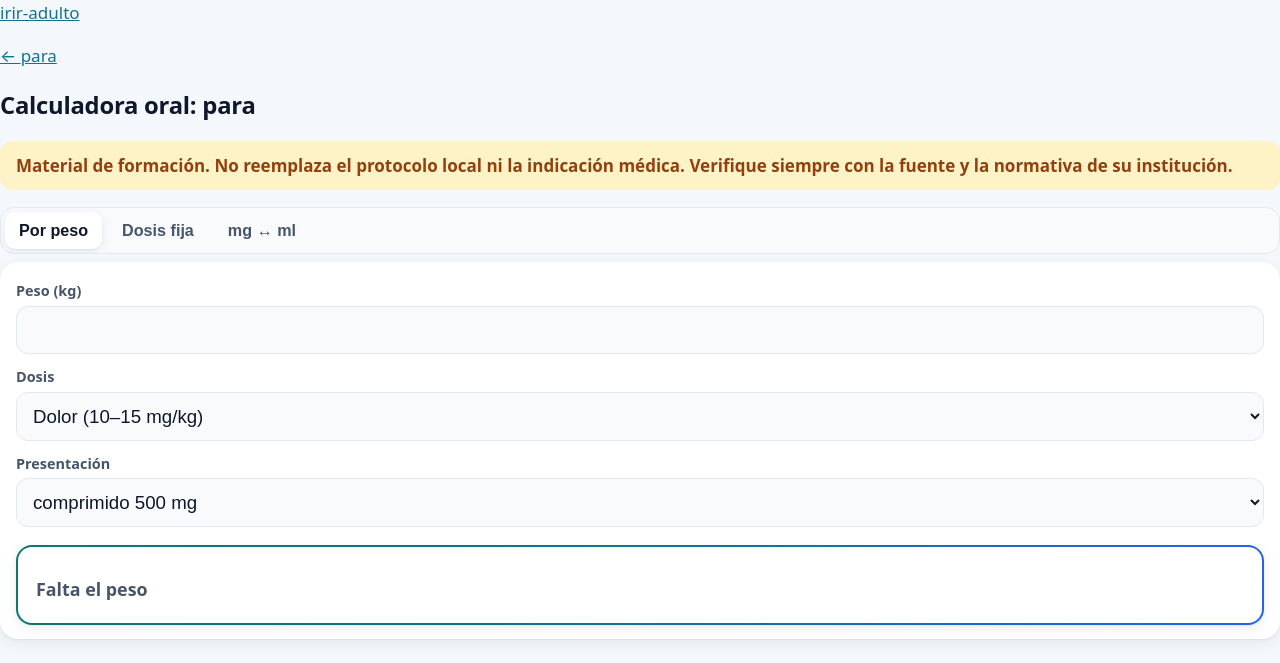
Test: CalculadoraOral › cambiar de medicamento en la misma ruta reinicia el estado (sin caerse)
The width and height of the screenshot is (1280, 663).
Select "jarabe 100 mg/ml" in the dropdown labelled "Presentación" at (640, 503), box x1=16 y1=478 x2=1264 y2=527
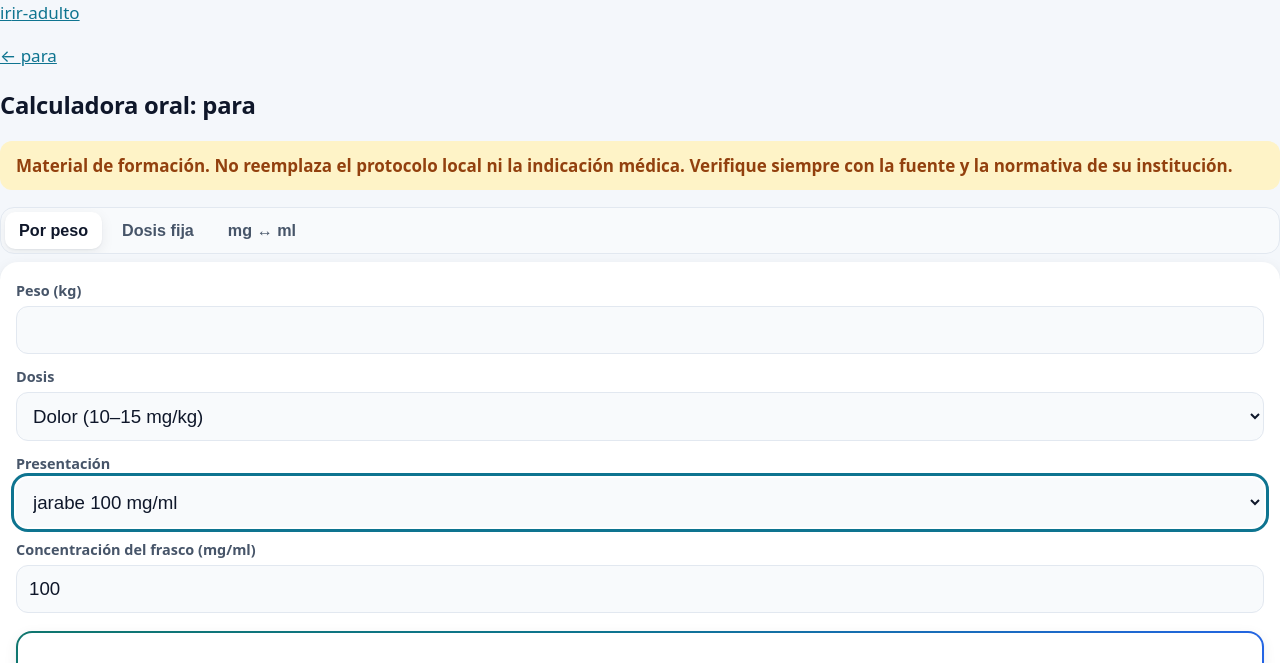
Type "10" into the field labelled "Peso (kg)" at (640, 330), box x1=16 y1=306 x2=1264 y2=354
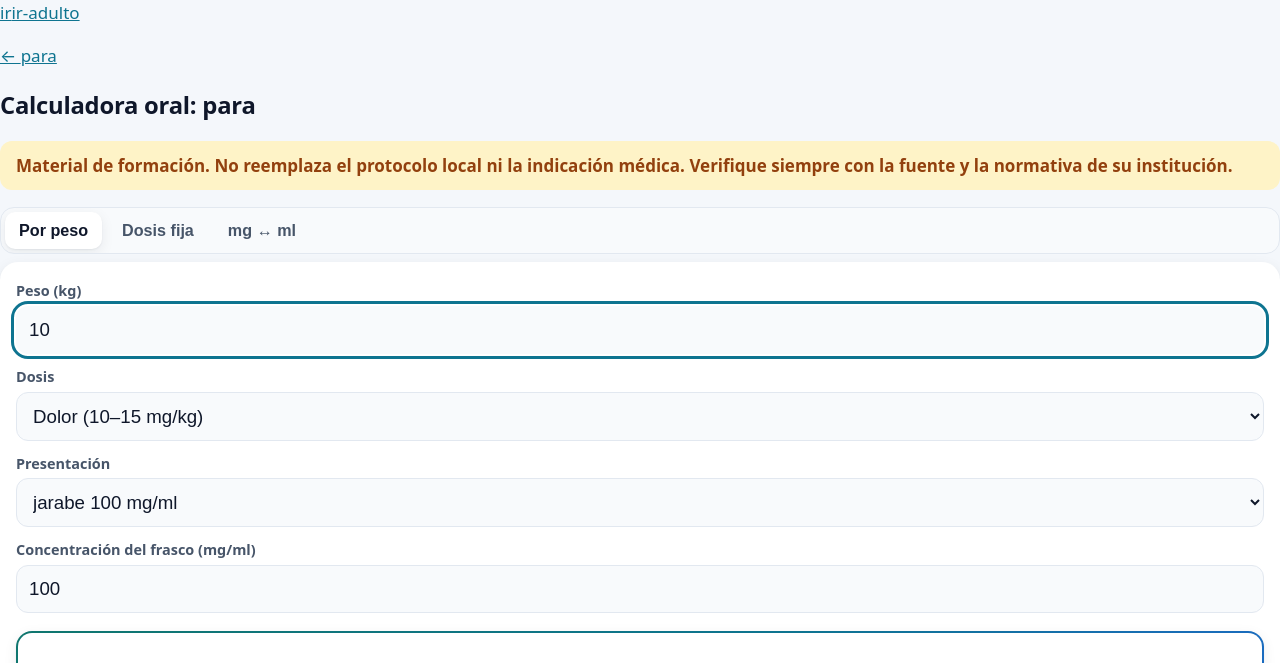
Click the link "ir" at (6, 12), box x1=0 y1=1 x2=11 y2=24
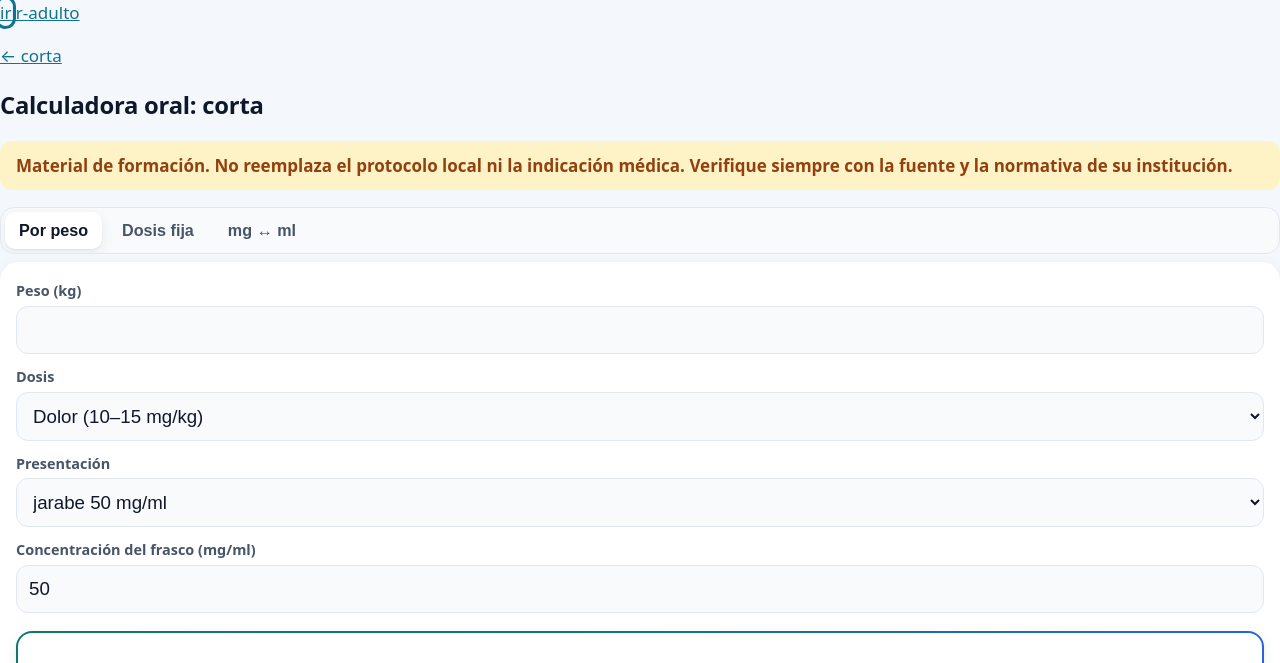
Check: the field labelled "Concentración del frasco (mg/ml)" holds "50", box x1=16 y1=565 x2=1264 y2=613
Check: the field labelled "Peso (kg)" is empty, box x1=16 y1=306 x2=1264 y2=354
Click the link "ir-adulto" at (46, 12), box x1=11 y1=1 x2=80 y2=24
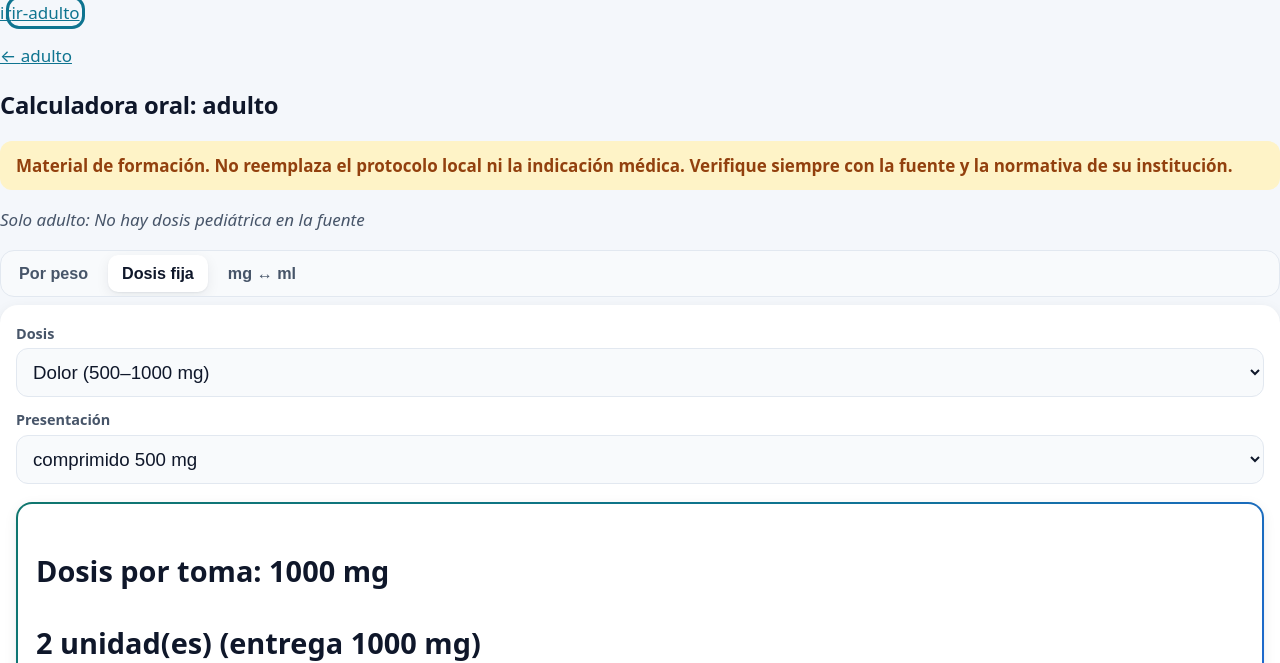
Check: the text labelled "Peso (kg)" is gone
Check: the text "Solo adulto: No hay dosis pediátrica en la fuente" is shown, box x1=0 y1=208 x2=365 y2=231
Check: the tab "Por peso" is disabled, box x1=5 y1=255 x2=102 y2=292
